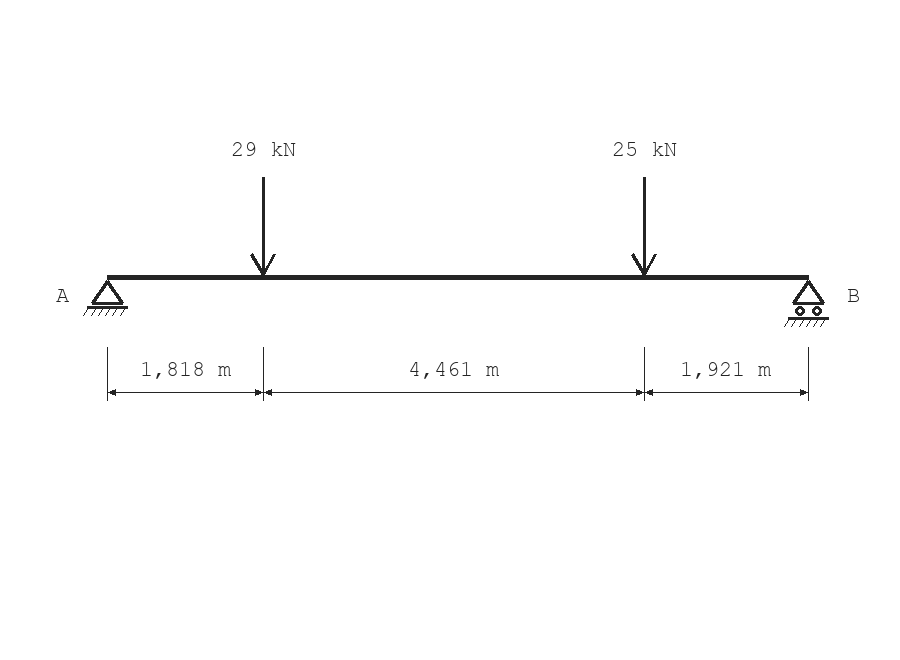pin_support: (83, 280, 128, 316)
point_load: (250, 177, 276, 276), (631, 177, 657, 276)
roller_support: (784, 280, 829, 327)
